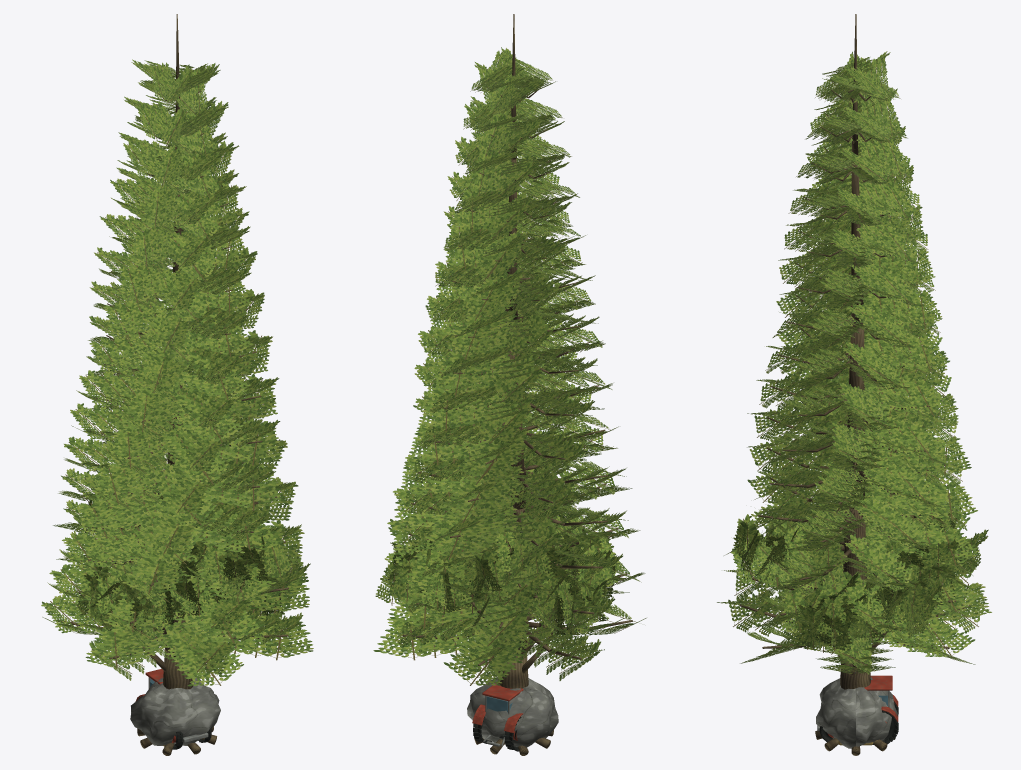
The model's file is world-kit.glb.
The picture shows the model from 3 angles, left to right: view 1: azimuth 30°, elevation 25°; view 2: azimuth 150°, elevation 25°; view 3: azimuth 270°, elevation 25°; orthographic projection.
Parts seen in each view (by area): view 1: tree_metasequoia_mesh, tree_broadleaf_mesh, boulder_mesh, tractor_mesh; view 2: tree_metasequoia_mesh, tree_broadleaf_mesh, boulder_mesh, tractor_mesh; view 3: tree_metasequoia_mesh, tree_broadleaf_mesh, boulder_mesh, tractor_mesh.
Boxes of the visible parts, x1,y1,x2,y2 form: tree_metasequoia_mesh: (41, 14, 313, 755); tree_broadleaf_mesh: (76, 491, 310, 671); boulder_mesh: (130, 677, 220, 745); tractor_mesh: (135, 669, 211, 749); tree_metasequoia_mesh: (373, 14, 646, 755); tree_broadleaf_mesh: (375, 469, 624, 744); boulder_mesh: (467, 677, 558, 747); tractor_mesh: (472, 683, 523, 751); tree_metasequoia_mesh: (717, 14, 991, 755); tree_broadleaf_mesh: (724, 486, 988, 675); boulder_mesh: (816, 677, 897, 748); tractor_mesh: (817, 675, 898, 744).
Size of the model in its own units: 14.01 by 38.18 by 14.37.
2 materials, 2 textured.
